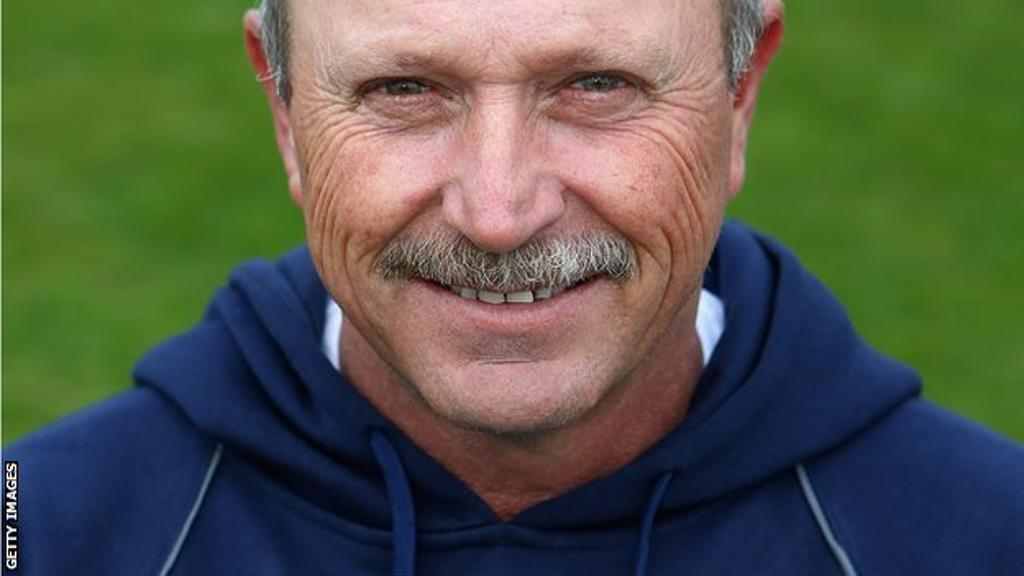face: (285, 1, 727, 429)
